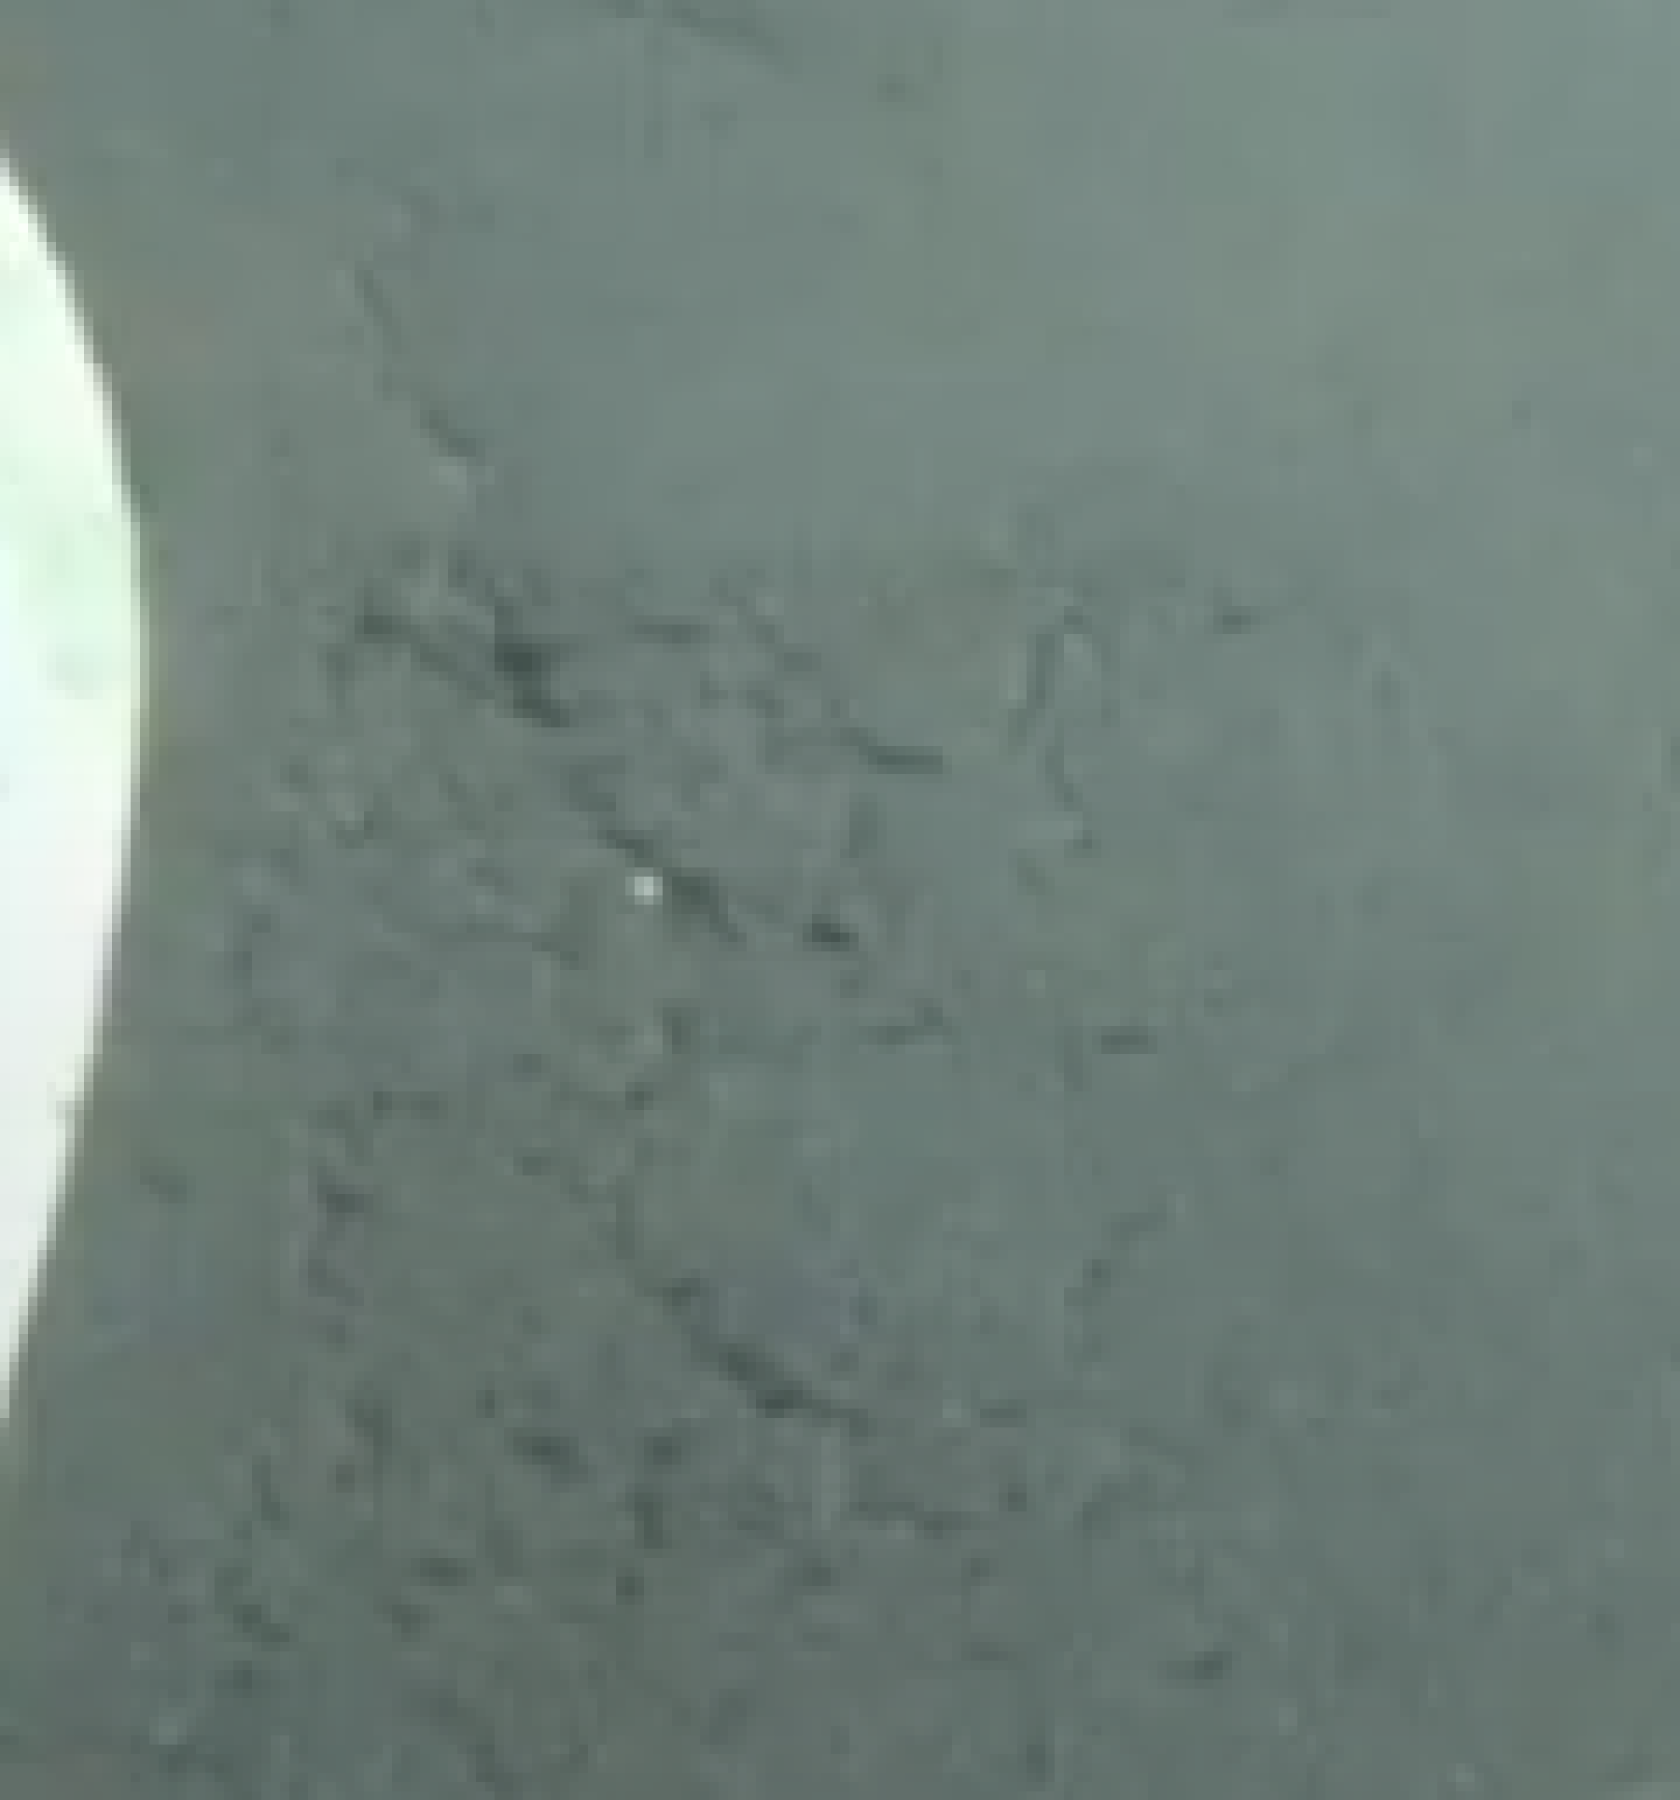Retak Buaya: (174, 189, 1145, 1749)
